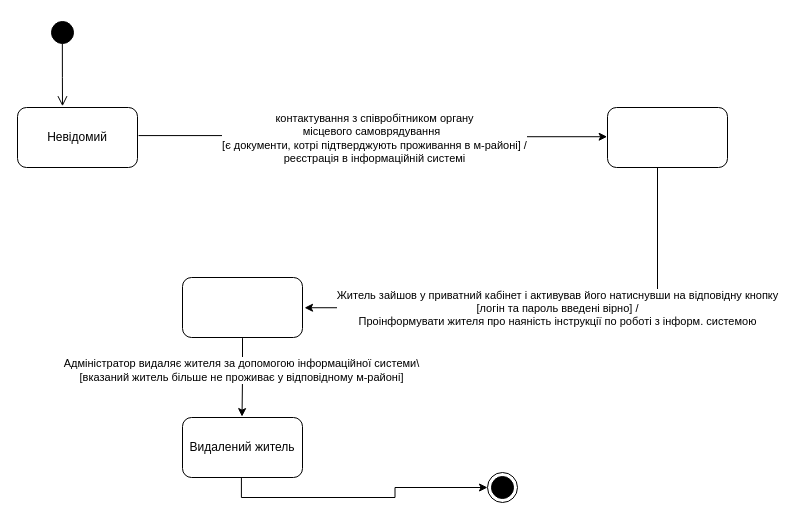
The diagram is 796 pixels wide and 523 high, and some of its shapes have lost their labels. Here are the shapes that lost their labels. From the top down, the centre of each, then its label:
At point (667, 137): "Зареєстрований житель".
At point (242, 307): "Активний житель".
